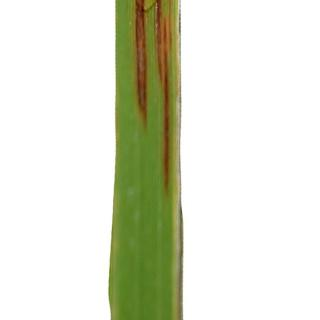Bercak-Cokelat-Sempit: (133, 0, 176, 200)
